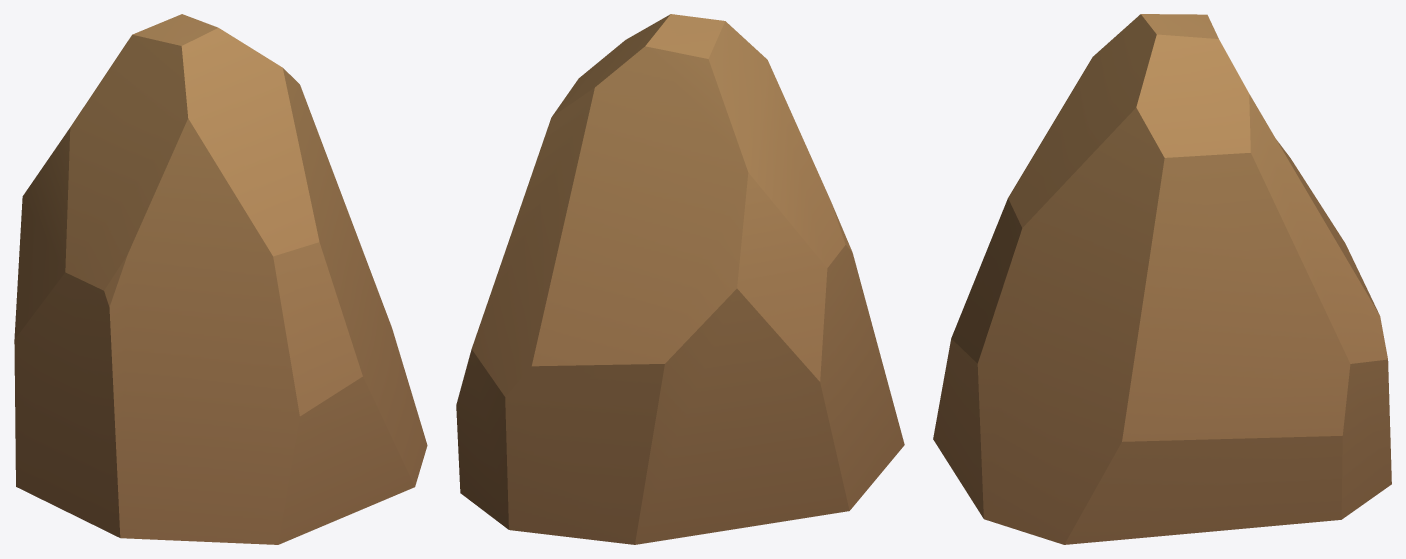
Rendered from desert stone small 3.fbx.
The picture shows the model from 3 angles, left to right: view 1: azimuth 30°, elevation 25°; view 2: azimuth 150°, elevation 25°; view 3: azimuth 270°, elevation 25°; orthographic projection. The views are drawn at different scales.
Parts seen in each view (by area): view 1: desert stone small 3; view 2: desert stone small 3; view 3: desert stone small 3.
Boxes of the visible parts, x1=… form: desert stone small 3: x1=14, y1=14, x2=427, y2=544; desert stone small 3: x1=456, y1=14, x2=904, y2=544; desert stone small 3: x1=933, y1=14, x2=1391, y2=544.
Bounding box in the file's own units: 86.9 × 100 × 97.08.
